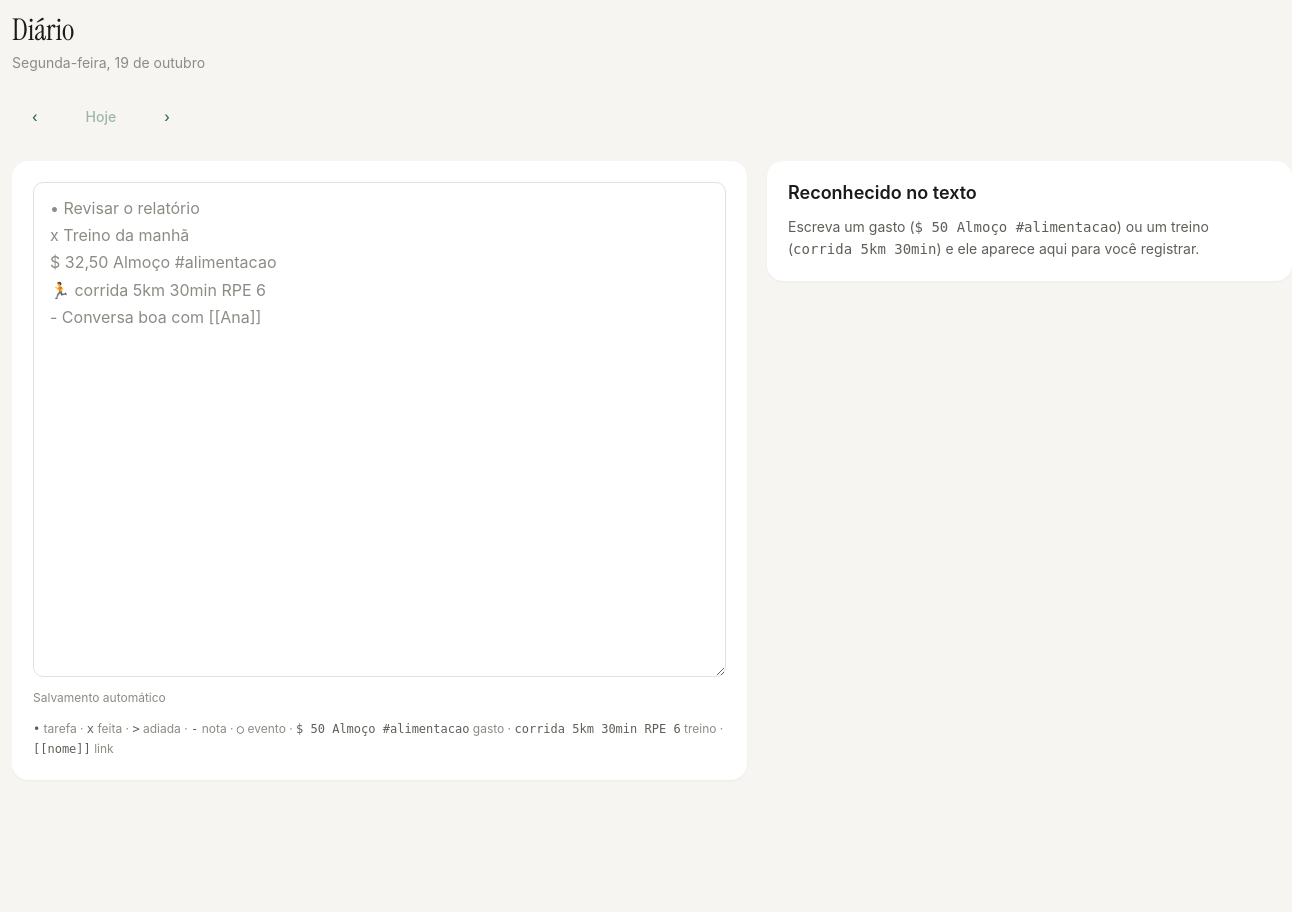
JournalPage (diário) › treino vai para o hábito certo com as medidas; conflito é explicado
Replace the text in the text box named "Texto do dia" with "corrida 1h30min 12km RPE 7": coordinates (380, 430) top-left (33, 182), bottom-right (726, 677)
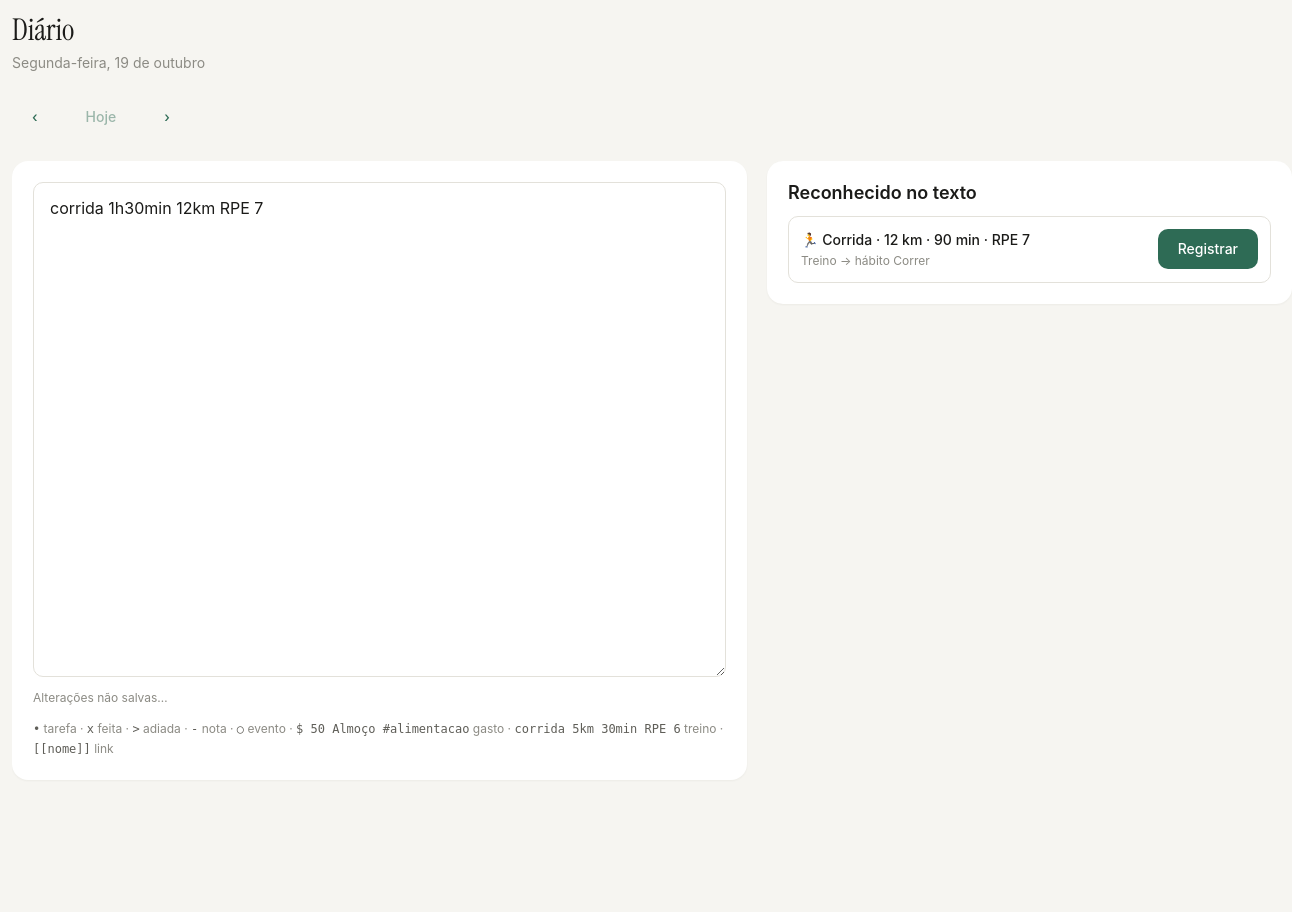
Expected: the text "Treino → hábito Correr" is shown, top-left (801, 253), bottom-right (930, 268)
Click the button "Registrar": coordinates (1208, 249) top-left (1158, 229), bottom-right (1258, 269)
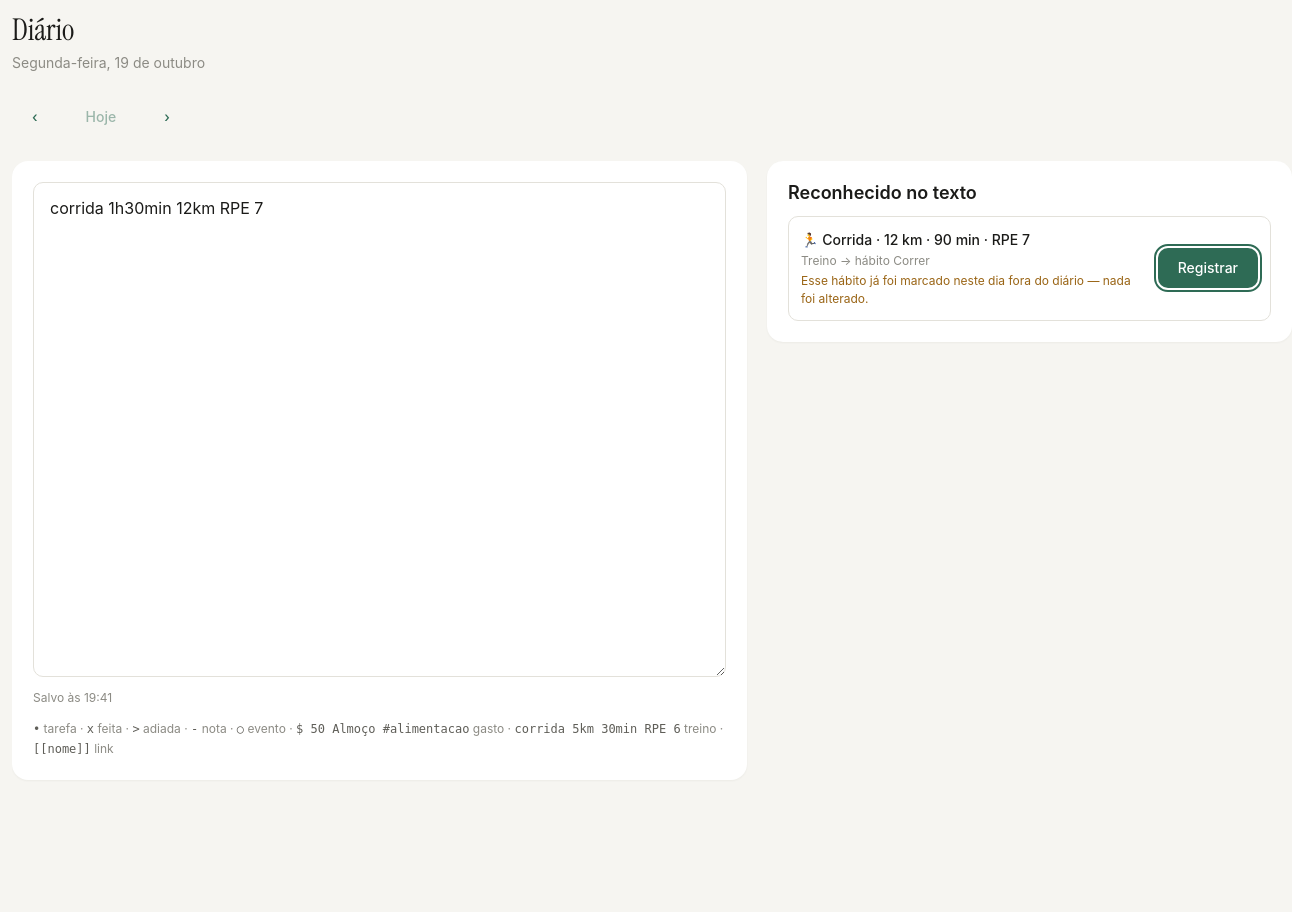
Expected: the message "Esse hábito já foi marcado neste dia fora do diário — nada foi alterado." is shown, top-left (801, 272), bottom-right (1146, 308)
Click the button "Registrar": coordinates (1208, 268) top-left (1158, 248), bottom-right (1258, 288)
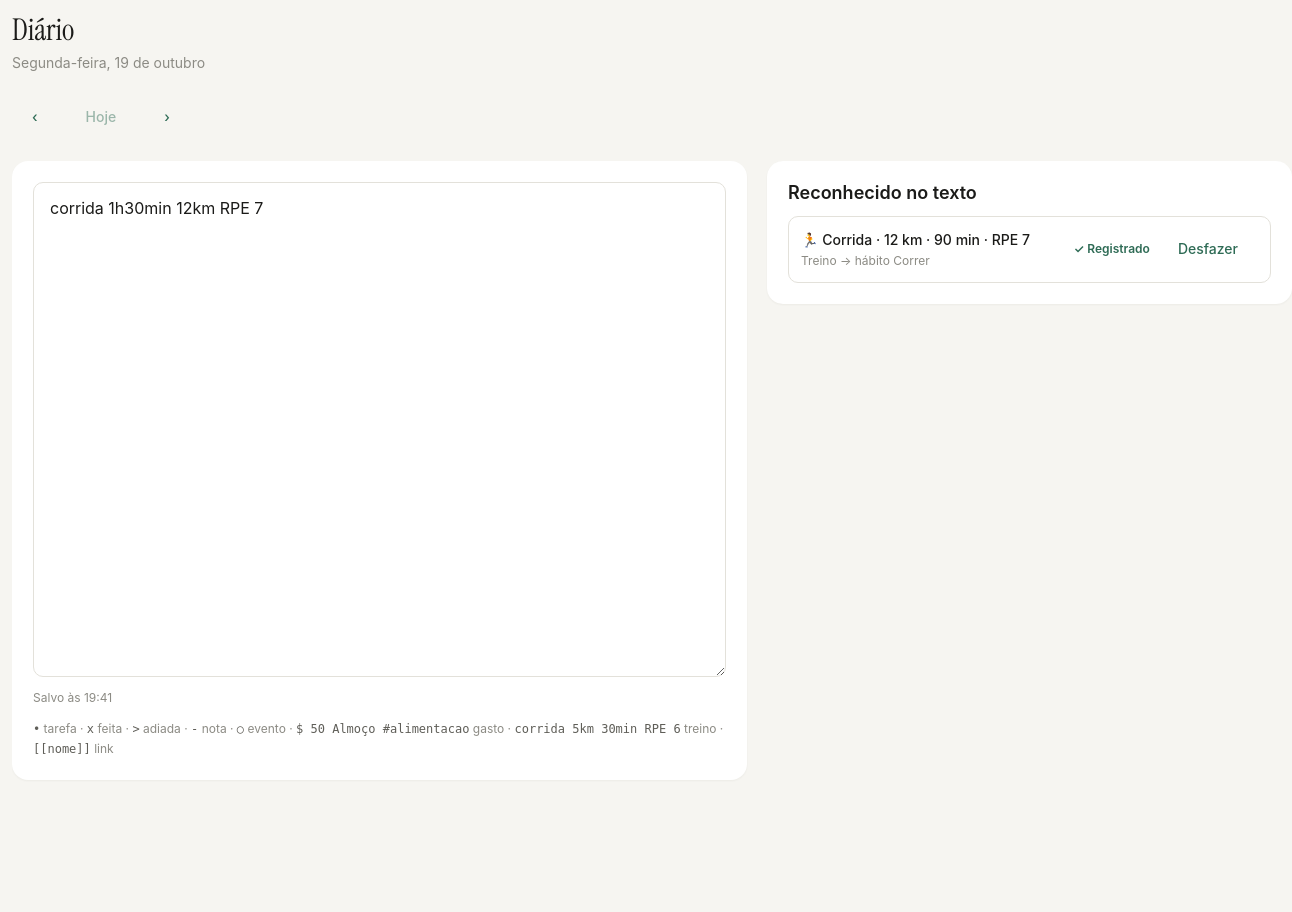
Expected: the text "✓ Registrado" is shown, top-left (1074, 240), bottom-right (1150, 258)
